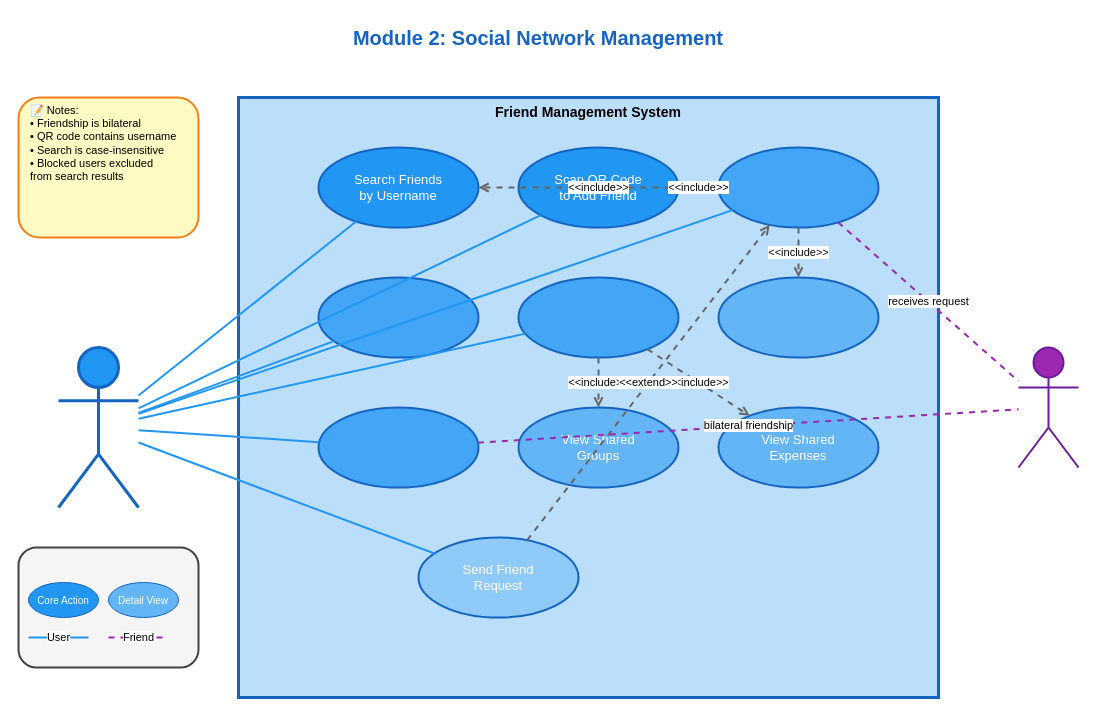
Image size: 1096x716. Some labels were removed from this diagram. Here are the shapes that lost their labels. From the top down, the box of each, then its label:
(717, 146, 879, 228): Add Friend
(317, 276, 479, 358): View Friends List
(517, 276, 679, 358): View Friend Detail
(717, 276, 879, 358): View Friend Profile Preview
(317, 406, 479, 488): Remove Friend
(17, 546, 199, 668): Legend
